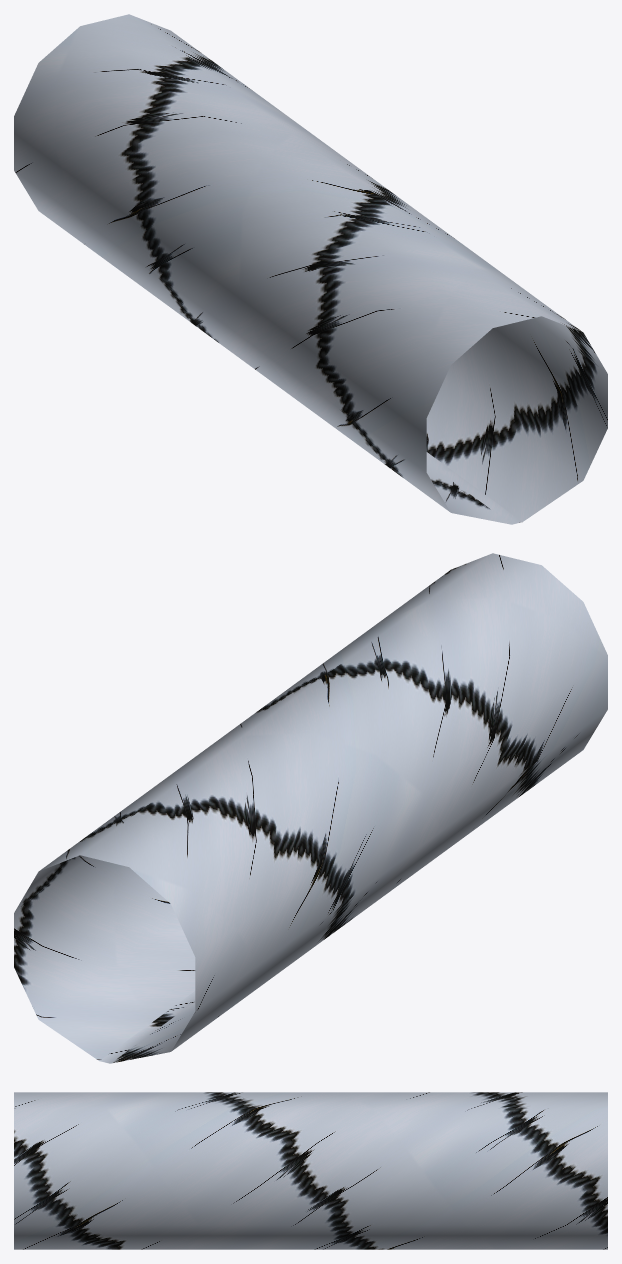
File: barbed wire cylinder.fbx
The picture shows the model from 3 angles, top to bottom: view 1: azimuth 30°, elevation 25°; view 2: azimuth 150°, elevation 25°; view 3: azimuth 270°, elevation 25°; orthographic projection. The views are drawn at different scales.
Visible parts, largest first — view 1: barbed_wire Mesh (1); view 2: barbed_wire Mesh (1); view 3: barbed_wire Mesh (1).
Part boxes in pixels (x1,y1,x2,y2): barbed_wire Mesh (1): (14, 14, 607, 524); barbed_wire Mesh (1): (14, 553, 607, 1063); barbed_wire Mesh (1): (14, 1092, 607, 1249).
Bounding box in the file's own units: 1 × 1.06 × 3.94.
